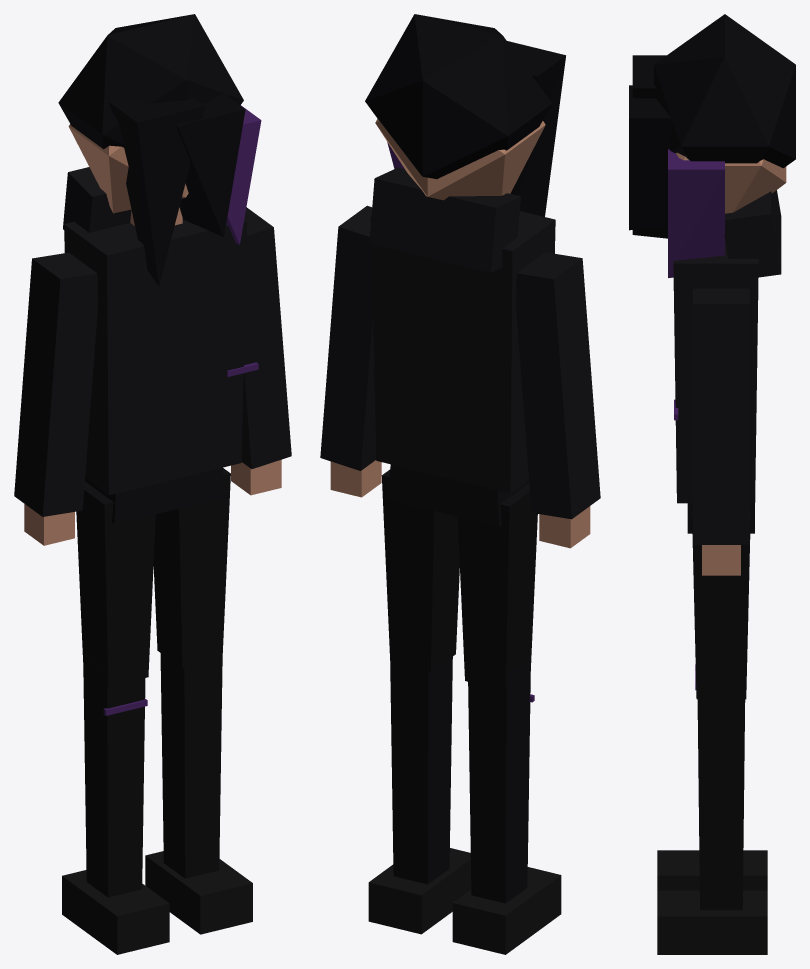
The model's file is phase1-violet-blockout.obj.
The picture shows the model from 3 angles, left to right: view 1: azimuth 30°, elevation 25°; view 2: azimuth 150°, elevation 25°; view 3: azimuth 270°, elevation 25°; orthographic projection.
Visible parts, largest first — view 1: hoodie, left_arm, hair_cap, left_lower_leg, right_lower_leg, left_upper_leg, right_upper_leg, right_arm, fringe_left, fringe_center, left_shoe, right_shoe (+6 smaller); view 2: hoodie, hair_cap, left_arm, left_lower_leg, right_lower_leg, left_upper_leg, right_upper_leg, right_arm, hood, left_shoe, right_shoe, head (+4 smaller); view 3: hair_cap, right_arm, right_lower_leg, hoodie, right_upper_leg, right_shoe, side_lock, fringe_center, hood, left_shoe, head, fringe_left (+1 smaller).
Boxes of the visible parts, x1=… form: hoodie: x1=64, y1=218, x2=247, y2=495; left_arm: x1=14, y1=252, x2=97, y2=516; hair_cap: x1=58, y1=14, x2=243, y2=149; left_lower_leg: x1=83, y1=653, x2=145, y2=897; right_lower_leg: x1=160, y1=653, x2=222, y2=878; left_upper_leg: x1=76, y1=481, x2=155, y2=686; right_upper_leg: x1=153, y1=468, x2=230, y2=668; right_arm: x1=241, y1=207, x2=291, y2=468; fringe_left: x1=109, y1=97, x2=204, y2=286; fringe_center: x1=176, y1=94, x2=245, y2=236; left_shoe: x1=62, y1=870, x2=169, y2=954; right_shoe: x1=145, y1=851, x2=252, y2=934; hoodie: x1=370, y1=211, x2=555, y2=493; hair_cap: x1=365, y1=14, x2=552, y2=179; left_arm: x1=516, y1=252, x2=600, y2=519; left_lower_leg: x1=468, y1=657, x2=530, y2=903; right_lower_leg: x1=390, y1=656, x2=452, y2=884; left_upper_leg: x1=457, y1=483, x2=537, y2=690; right_upper_leg: x1=381, y1=469, x2=459, y2=672; right_arm: x1=320, y1=205, x2=376, y2=470; hood: x1=369, y1=167, x2=520, y2=272; left_shoe: x1=452, y1=867, x2=561, y2=954; right_shoe: x1=368, y1=848, x2=471, y2=934; head: x1=375, y1=119, x2=545, y2=200; hair_cap: x1=654, y1=14, x2=795, y2=168; right_arm: x1=693, y1=288, x2=749, y2=544; right_lower_leg: x1=697, y1=683, x2=745, y2=910; hoodie: x1=673, y1=240, x2=758, y2=503; right_upper_leg: x1=692, y1=512, x2=750, y2=699; right_shoe: x1=657, y1=890, x2=767, y2=954; side_lock: x1=668, y1=149, x2=724, y2=277; fringe_center: x1=629, y1=85, x2=671, y2=230; hood: x1=724, y1=190, x2=781, y2=277; left_shoe: x1=657, y1=850, x2=767, y2=890; head: x1=675, y1=152, x2=786, y2=213; fringe_left: x1=632, y1=55, x2=667, y2=238.
Size of the model in its own units: 1.62 by 5.51 by 0.9398.
